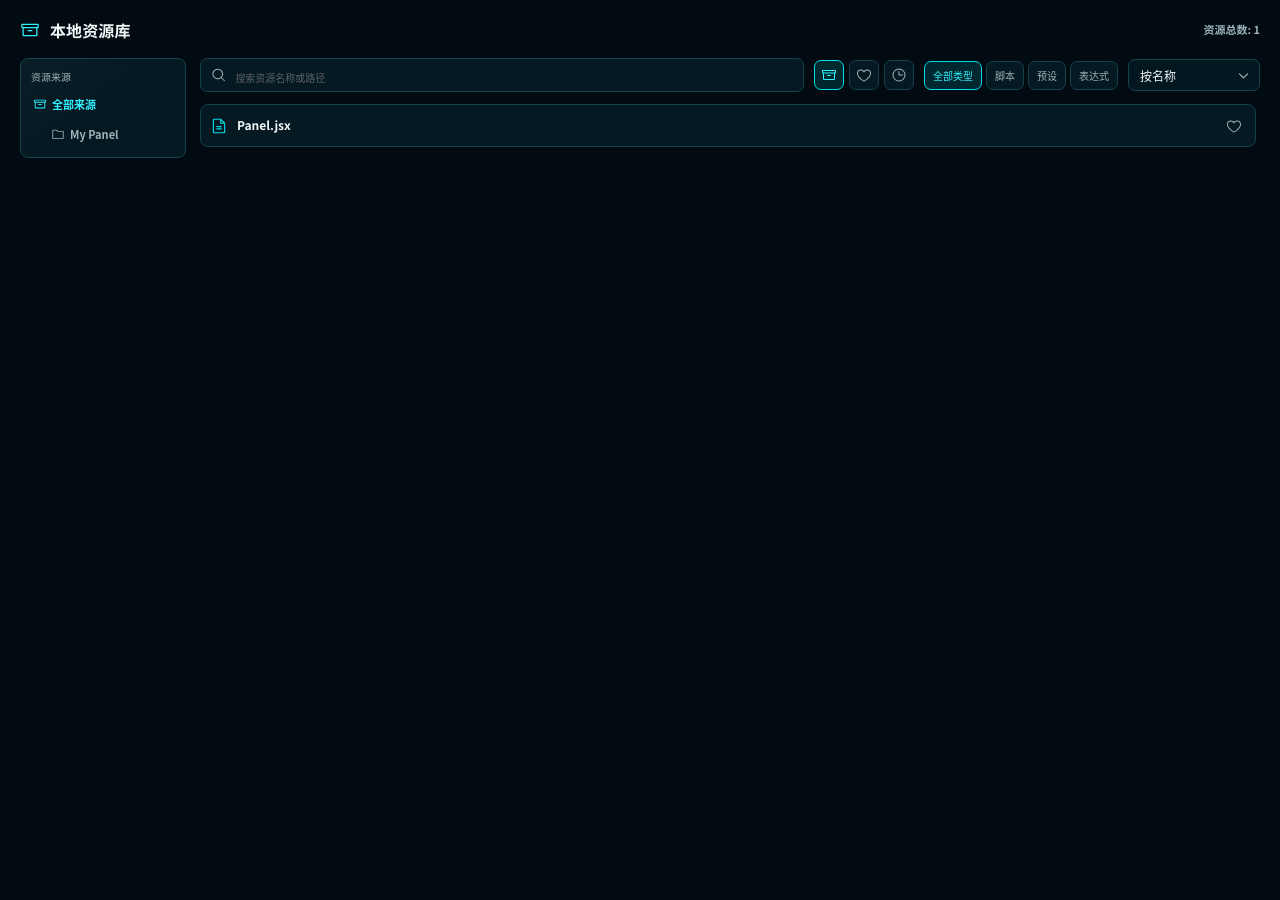
Test: resource page selection and keyboard execution › maps panel registration failures to localized feedback
This screenshot has width=1280, height=900.
Click the option "Panel.jsx" at {"x": 264, "y": 126}, box [200,104,1256,147]
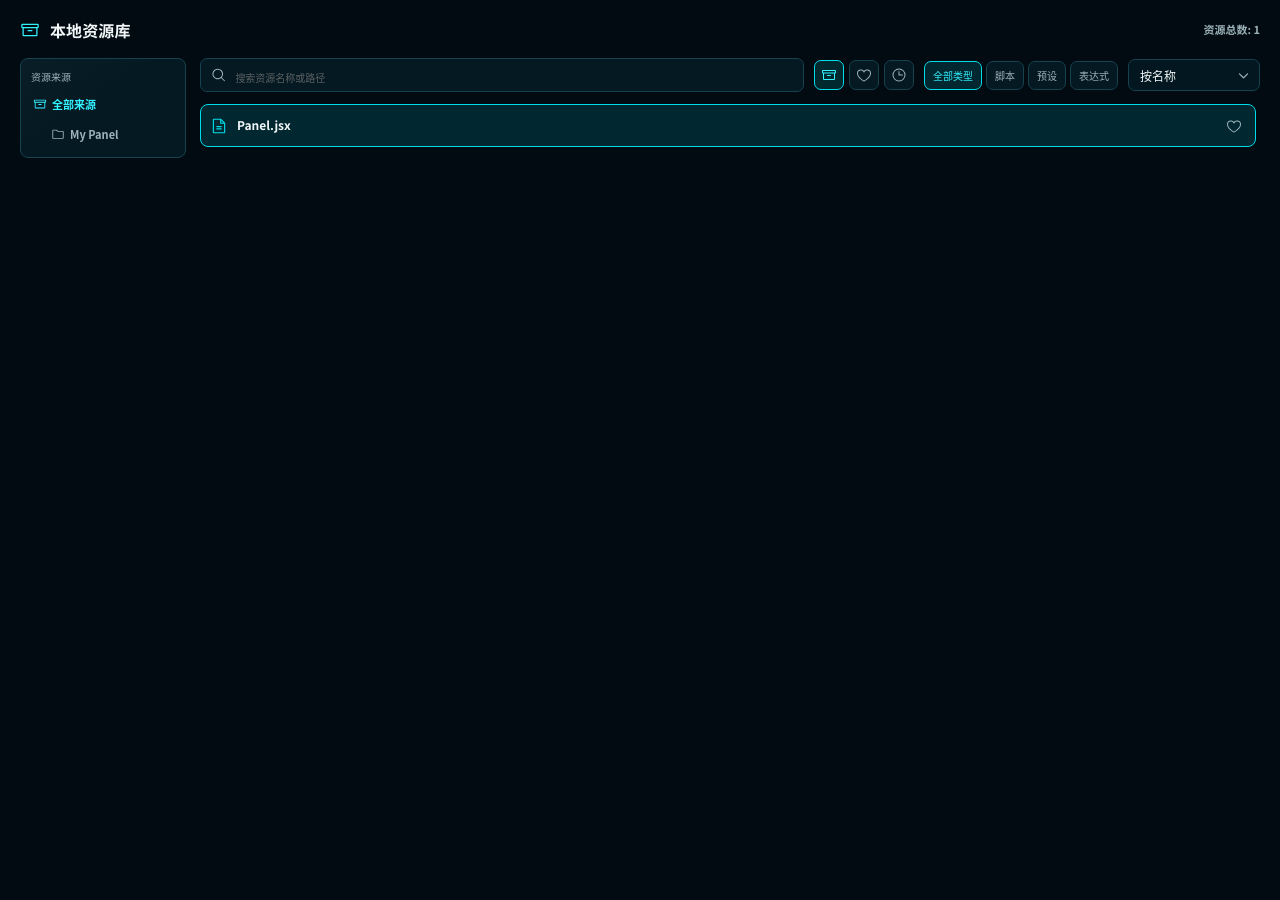
Press Enter in the option "Panel.jsx", box [200,104,1256,147]
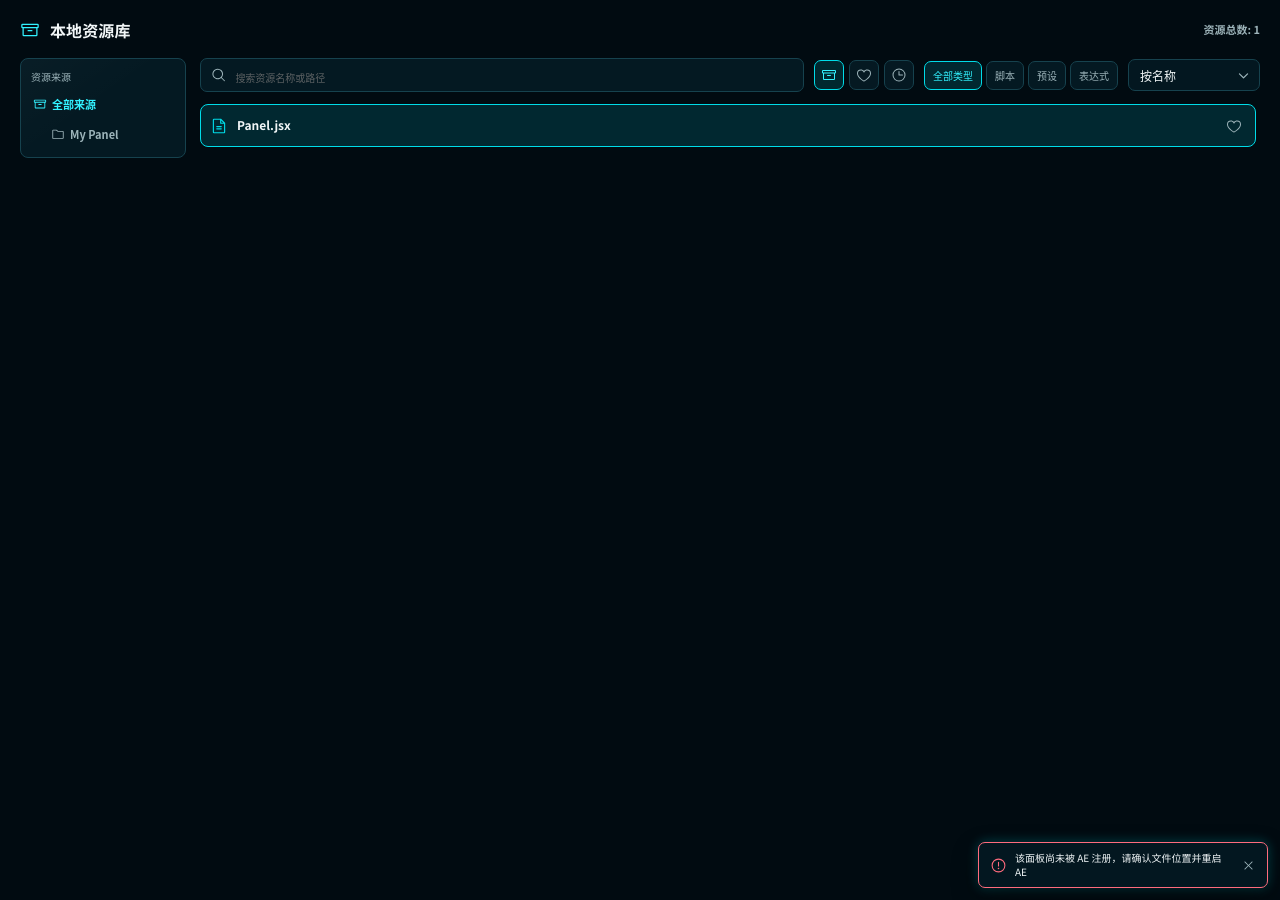
Result: the text with class "toast-item__message" shows "该面板尚未被 AE 注册" at [1015,850,1222,879]
